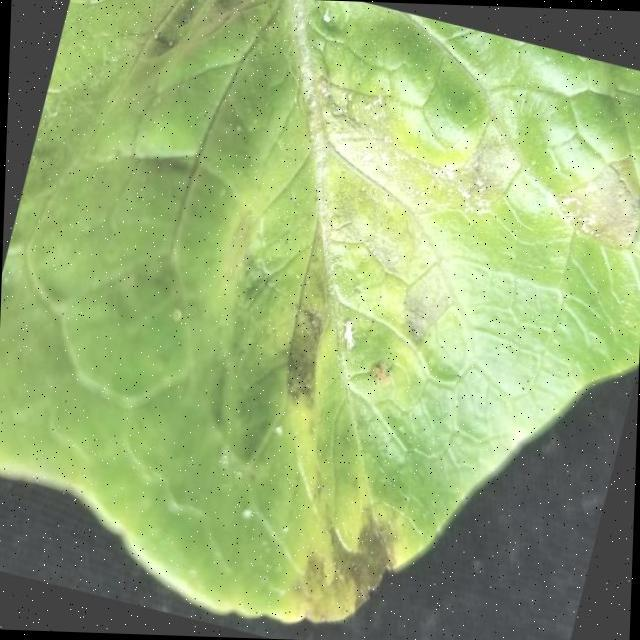Powdery_mildew_on_lettuce: (263, 49, 640, 332)
